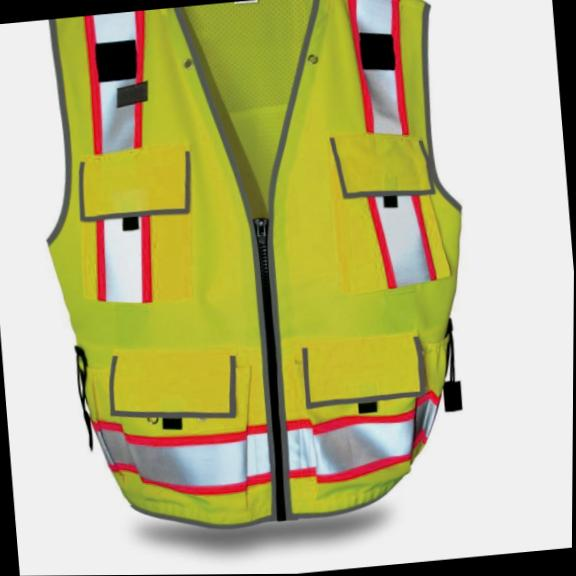safety_vest: (21, 0, 496, 548)
